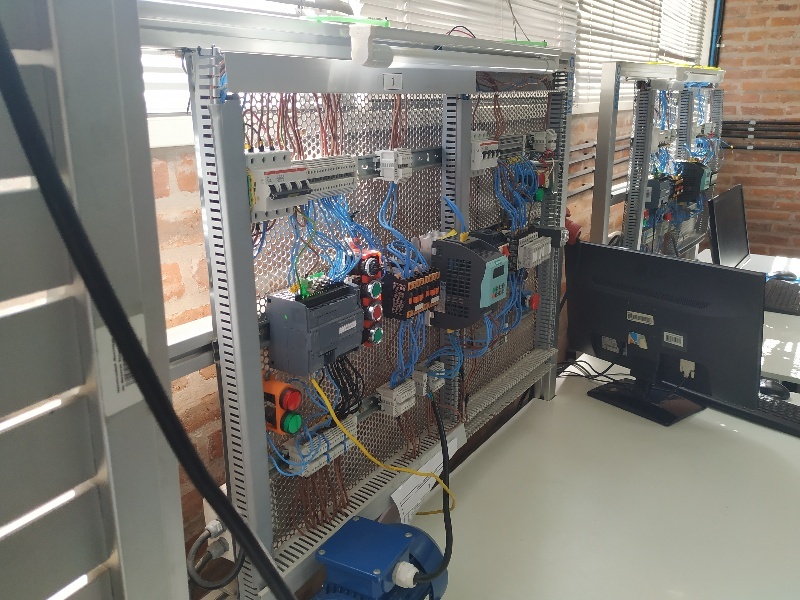Tablero 1: (232, 84, 554, 526)
